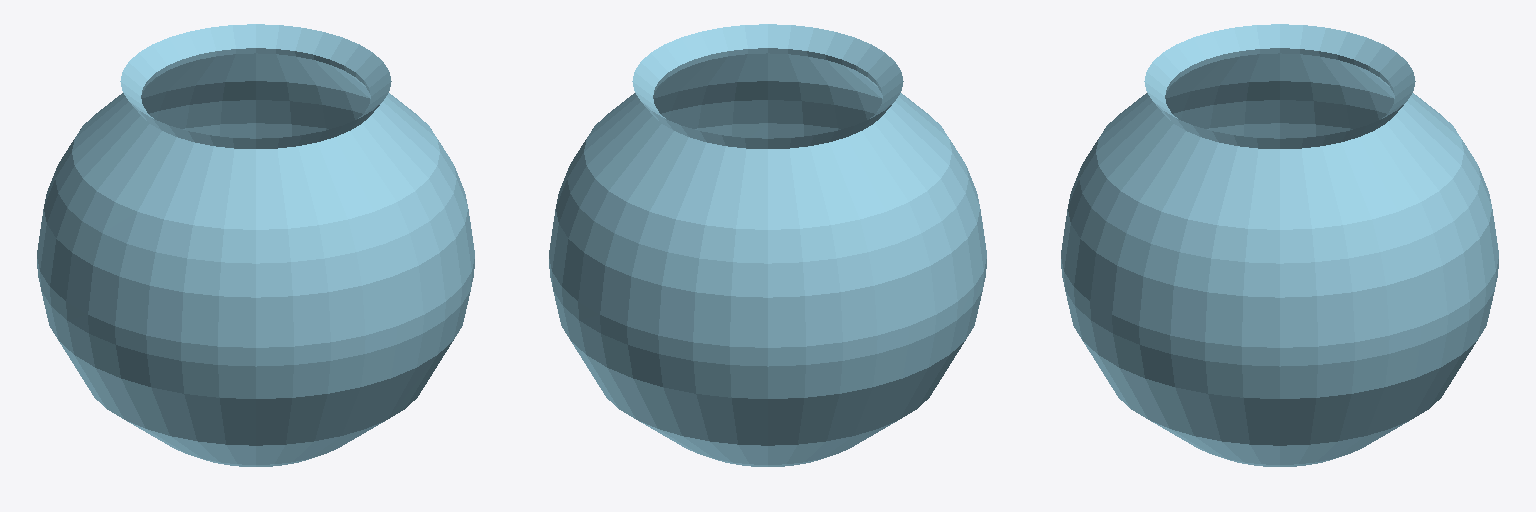
3 views of the same model, side by side, from view 1: azimuth 30°, elevation 25°; view 2: azimuth 150°, elevation 25°; view 3: azimuth 270°, elevation 25° (orthographic).
Parts seen in each view (by area): view 1: Pecera_Pecera__fish_bowl_bowl; view 2: Pecera_Pecera__fish_bowl_bowl; view 3: Pecera_Pecera__fish_bowl_bowl.
Boxes of the visible parts, x1=… form: Pecera_Pecera__fish_bowl_bowl: x1=37, y1=24, x2=474, y2=466; Pecera_Pecera__fish_bowl_bowl: x1=549, y1=24, x2=986, y2=466; Pecera_Pecera__fish_bowl_bowl: x1=1061, y1=24, x2=1498, y2=466.
Bounding box in the file's own units: 0.28 × 0.2459 × 0.28.
1 materials, 1 textured.